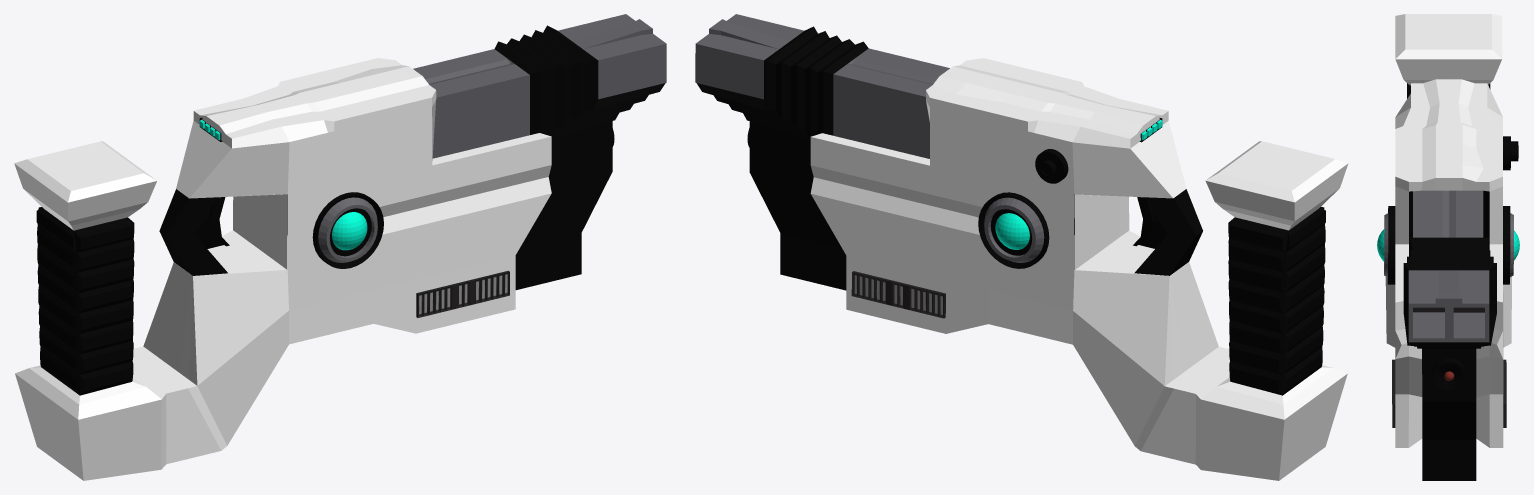
File: hand gun Fagerone.fbx
3 renders of one model, left to right at view 1: azimuth 30°, elevation 25°; view 2: azimuth 150°, elevation 25°; view 3: azimuth 270°, elevation 25°, orthographic.
Visible parts, largest first — view 1: Cube; view 2: Cube; view 3: Cube.
Part boxes in pixels (x1,y1,x2,y2): Cube: (14, 14, 666, 480); Cube: (695, 14, 1348, 480); Cube: (1377, 14, 1519, 480).
Bounding box in the file's own units: 3.14 × 1.51 × 0.6447.
2 materials, 2 textured.
